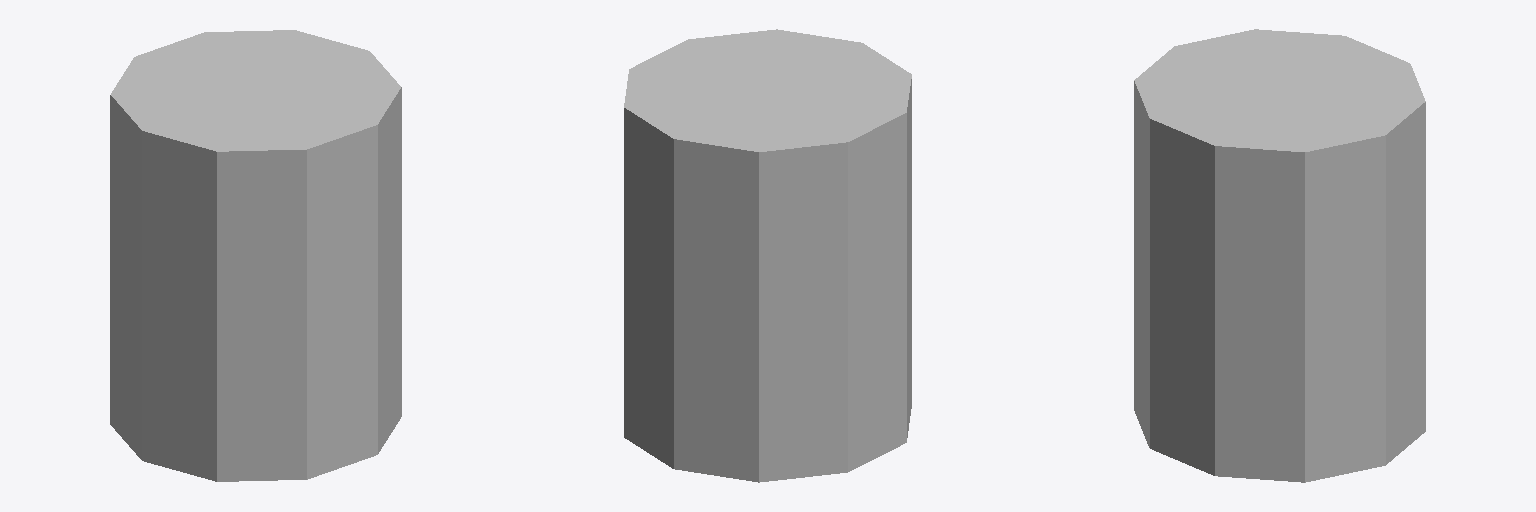
Rendered from Can_Milo.obj.
3 renders of one model, left to right at view 1: azimuth 30°, elevation 25°; view 2: azimuth 150°, elevation 25°; view 3: azimuth 270°, elevation 25°, orthographic.
Visible parts, largest first — view 1: pCylinder1; view 2: pCylinder1; view 3: pCylinder1.
Part boxes in pixels (x1,y1,x2,y2): pCylinder1: (110,30,401,481); pCylinder1: (624,29,911,482); pCylinder1: (1134,29,1425,482).
Bounding box in the file's own units: 0.616 × 0.7697 × 0.616.